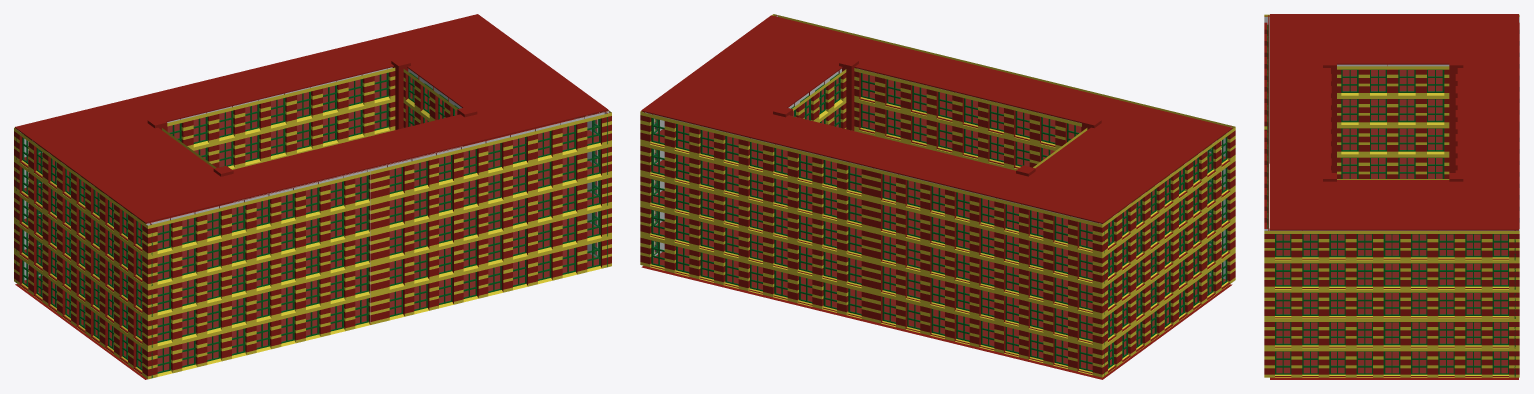
The picture shows the model from 3 angles, left to right: view 1: azimuth 30°, elevation 25°; view 2: azimuth 150°, elevation 25°; view 3: azimuth 270°, elevation 25°; orthographic projection. The views are drawn at different scales.
Visible parts, largest first — view 1: mill walls; view 2: mill walls; view 3: mill walls.
Boxes of the visible parts, x1=… form: mill walls: x1=14, y1=14, x2=611, y2=379; mill walls: x1=640, y1=14, x2=1235, y2=379; mill walls: x1=1264, y1=14, x2=1519, y2=379.
Size of the model in its own units: 33.64 by 11.11 by 16.82.
